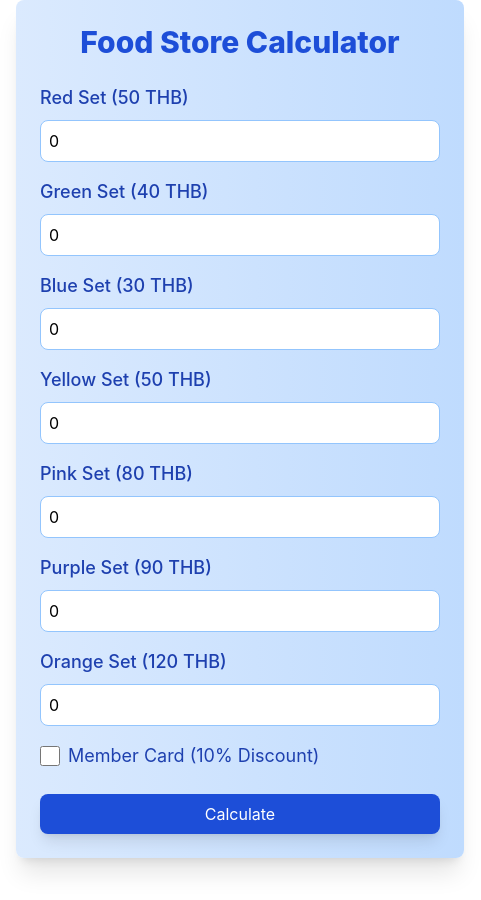
Test: Calculator Component › applies member discount correctly
Replace the text in the number field labelled "Red Set (50 THB)" with "1" at x=240, y=141, box [40,120,440,162]
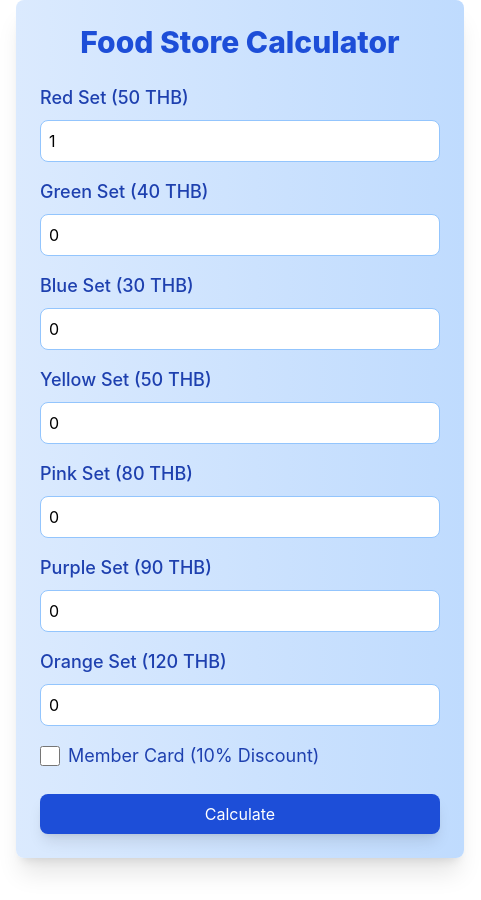
Replace the text in the number field labelled "Green Set (40 THB)" with "1" at x=240, y=235, box [40,214,440,256]
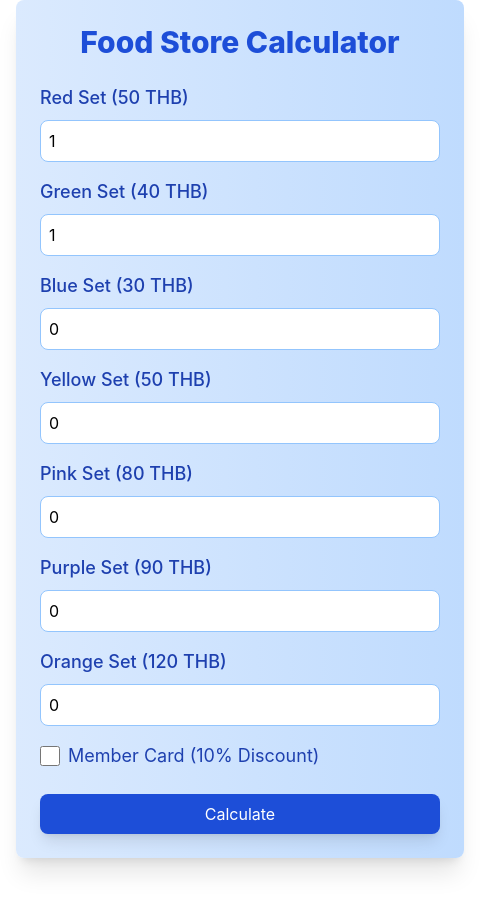
Click the checkbox labelled "Member Card (10% Discount)".
click(50, 756)  # box [40,746,60,766]
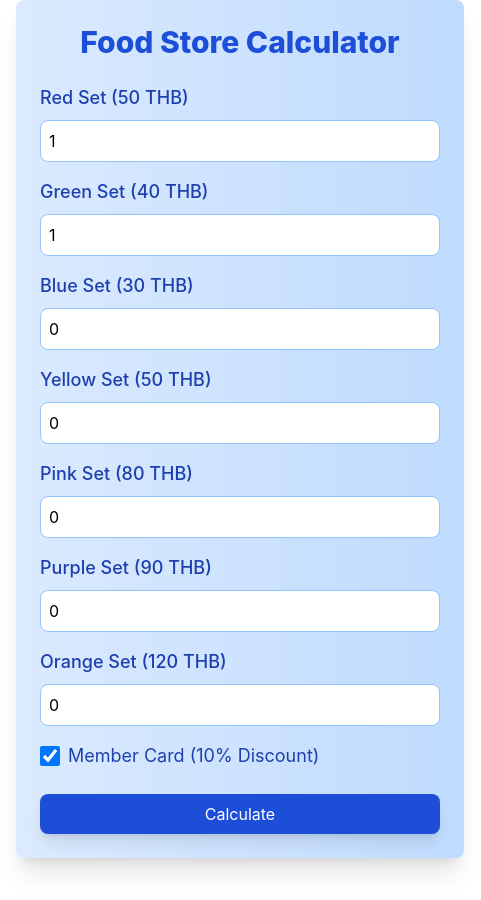
Click the button "Calculate".
click(240, 814)  # box [40,794,440,834]
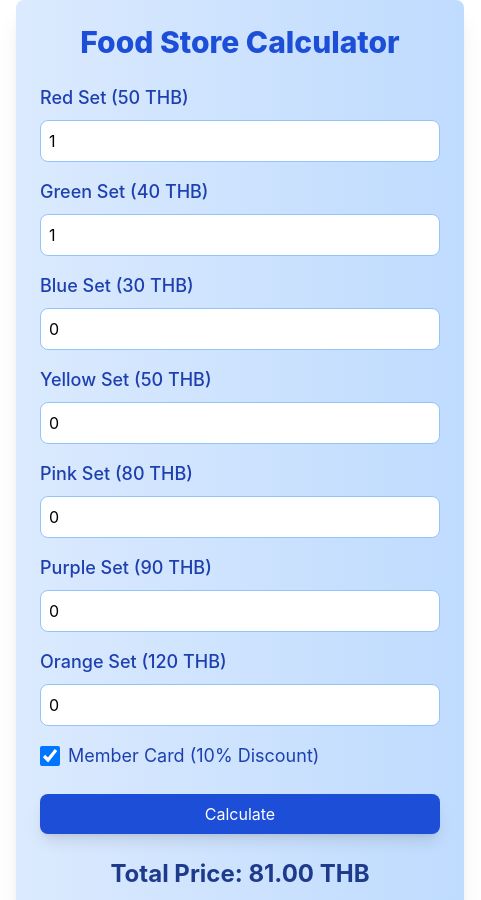
expect the text "Total Price: 81.00 THB" is shown: met, box [110,859,370,888]
